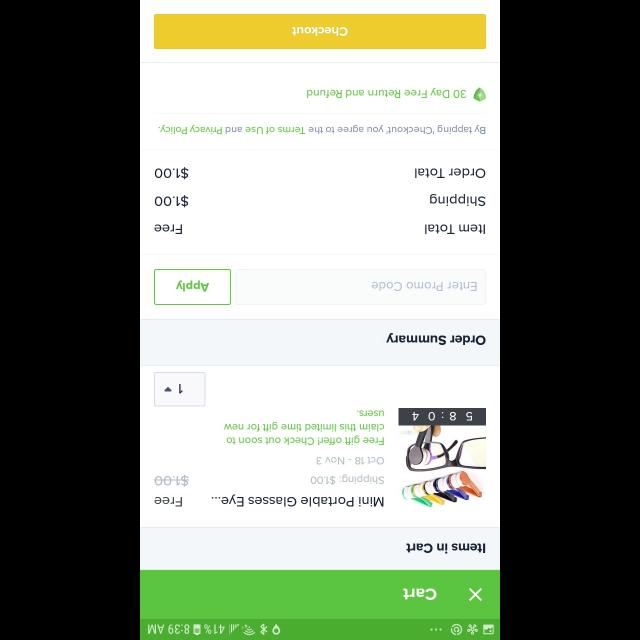icon: (468, 587, 482, 601), (164, 386, 172, 392)
image: (398, 408, 486, 507), (472, 86, 486, 102)
input: (234, 269, 486, 305)
spinner: (154, 372, 206, 406)
text: (224, 410, 384, 446), (158, 125, 486, 135), (212, 494, 384, 506), (306, 88, 466, 99), (386, 332, 486, 346), (406, 542, 486, 554), (310, 474, 384, 486), (372, 282, 476, 290), (414, 168, 486, 178), (429, 194, 485, 206), (425, 224, 485, 234), (316, 456, 384, 464), (155, 195, 189, 208), (155, 167, 189, 180), (154, 474, 190, 486), (403, 588, 437, 600), (154, 496, 182, 506), (154, 224, 182, 234), (179, 383, 183, 393)
textbutton: (154, 15, 486, 50), (154, 269, 230, 305)
uppertaskbar: (140, 618, 500, 640)
